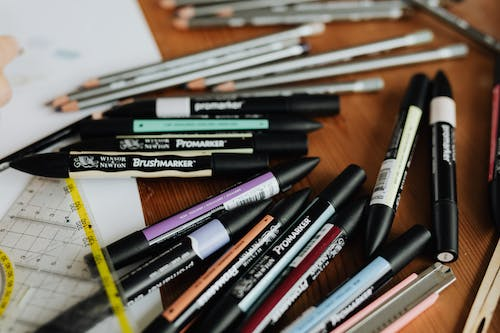knife: (325, 261, 458, 333)
